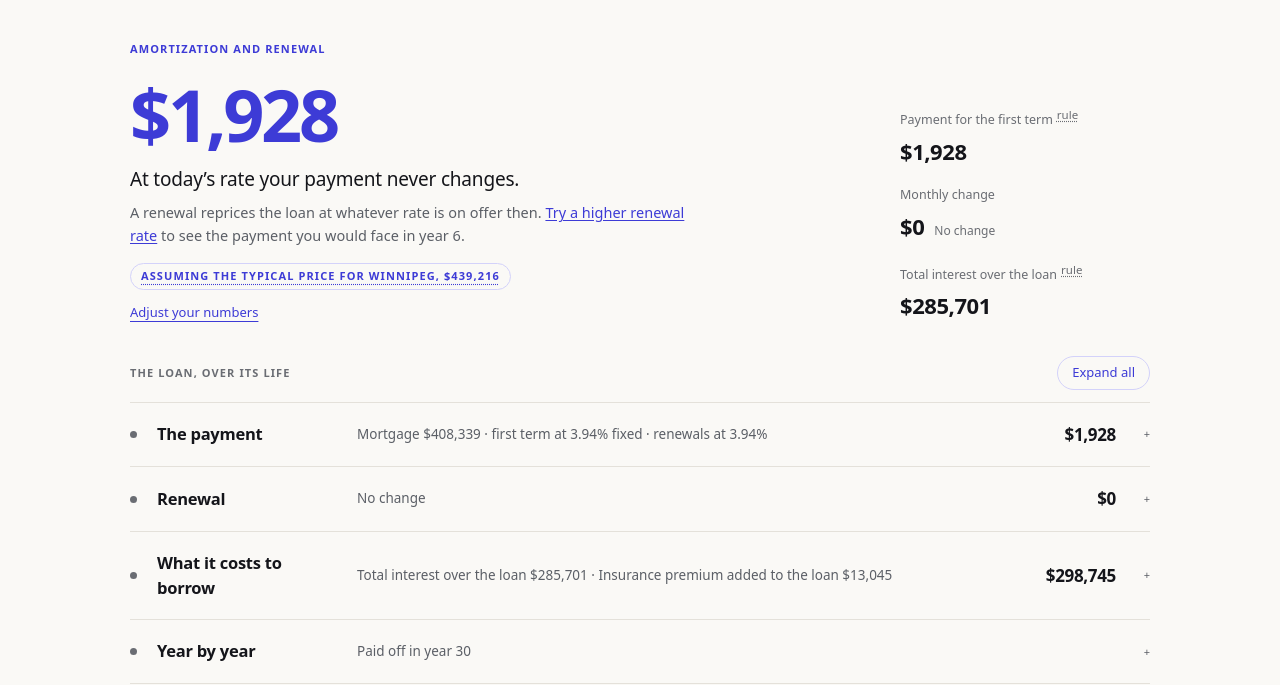
Test case: Amortization — renewal is the subject › prices extra interest against renewing at today's rate, not against nothing
Click the button "Renewal No change $0 +" at point(191, 498), box [130, 467, 1150, 531]
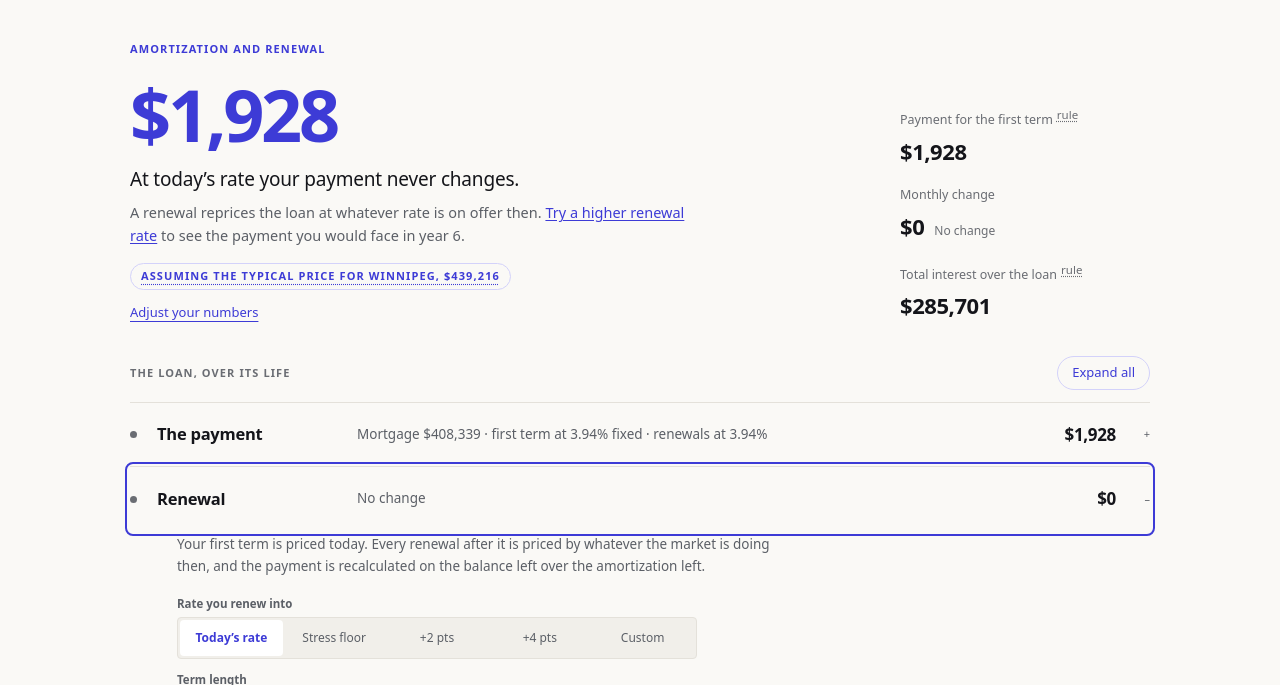
Click the radio button labelled "+2 pts" at point(437, 638), box [386, 620, 488, 656]
(page scrolled)
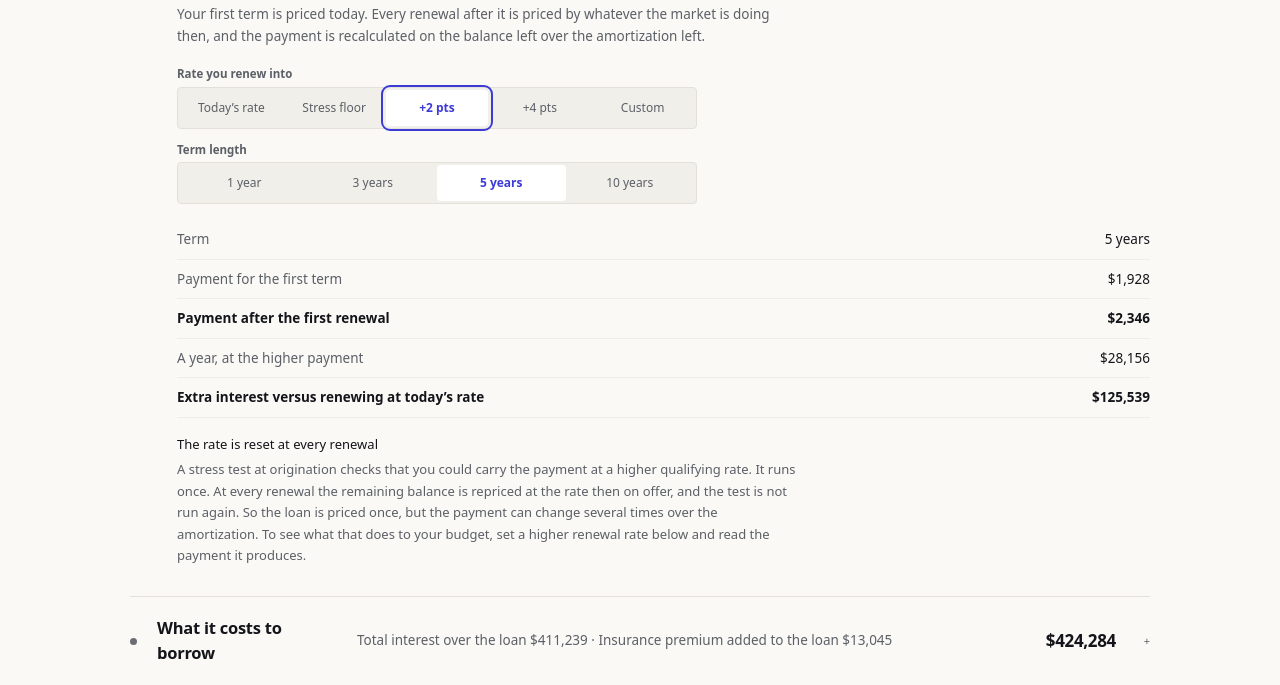
Expected: the text "Extra interest versus renewing at today’s rate" is shown, [177, 388, 484, 406]
